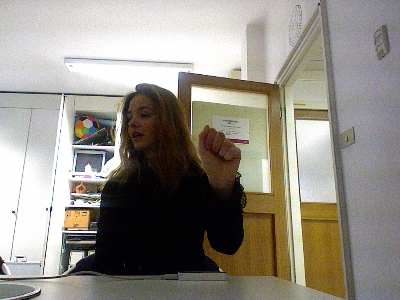石头: (196, 124, 240, 184)
